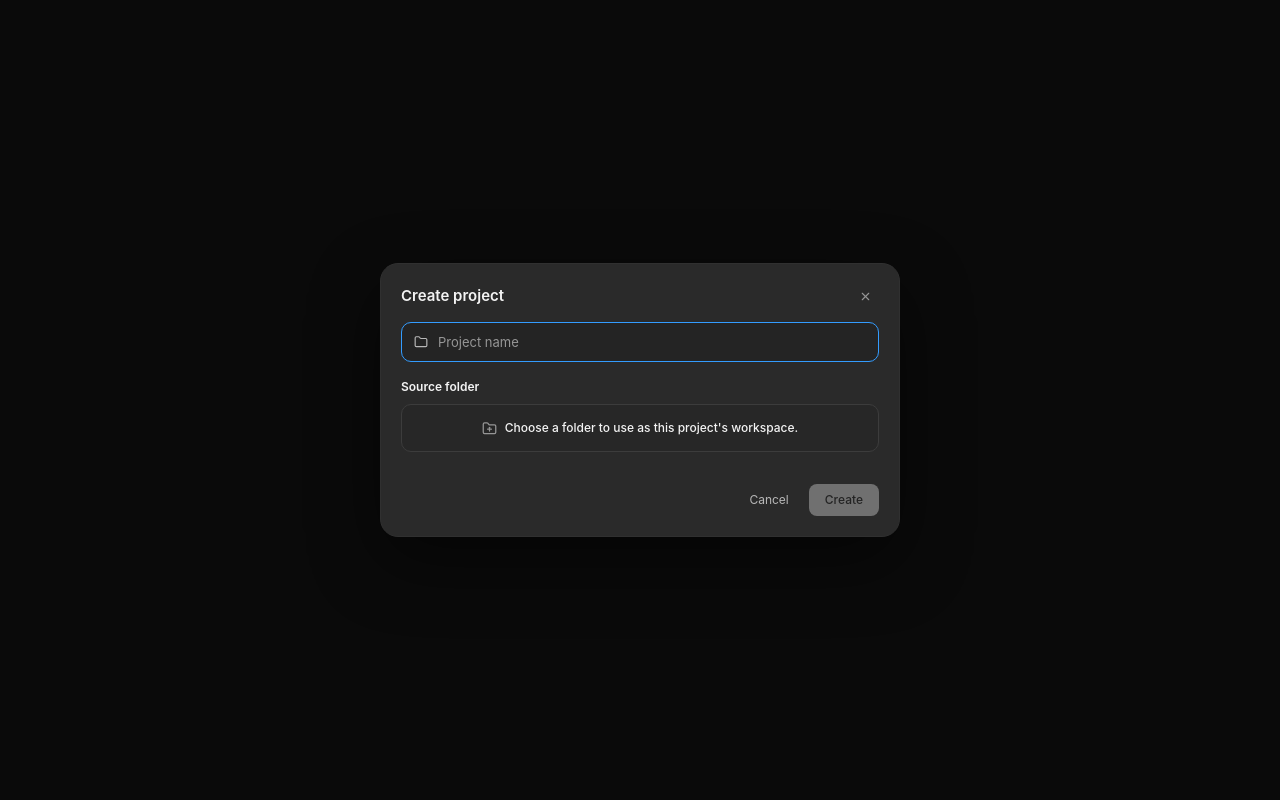
CreateProjectDialog › shows a fixed localized picker error without leaking the original failure
The image size is (1280, 800).
Click the button with aria-label "Add folder" at (640, 428), box [401,404,879,452]
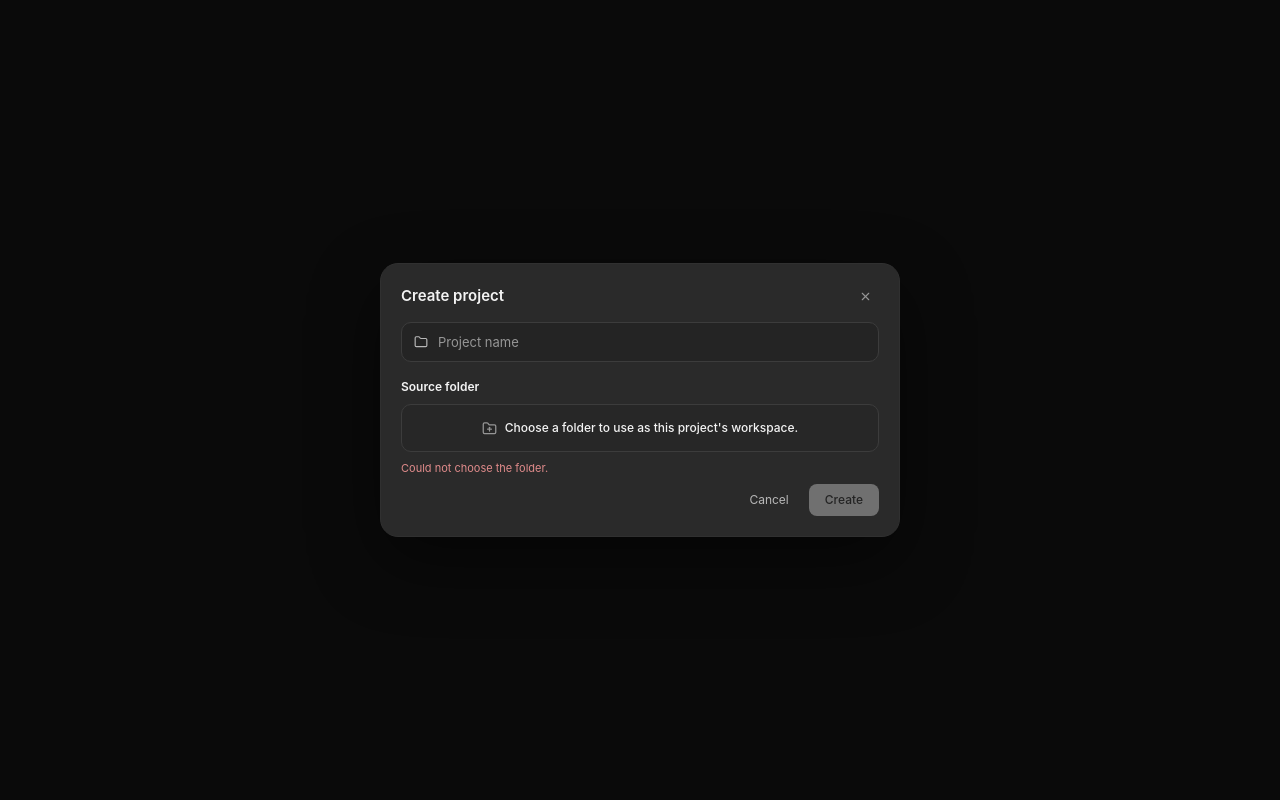
Expected: the dialog "Create project" is shown, [380,263,900,537]
Expected: the message reads "Could not choose the folder.", [401,461,548,475]
